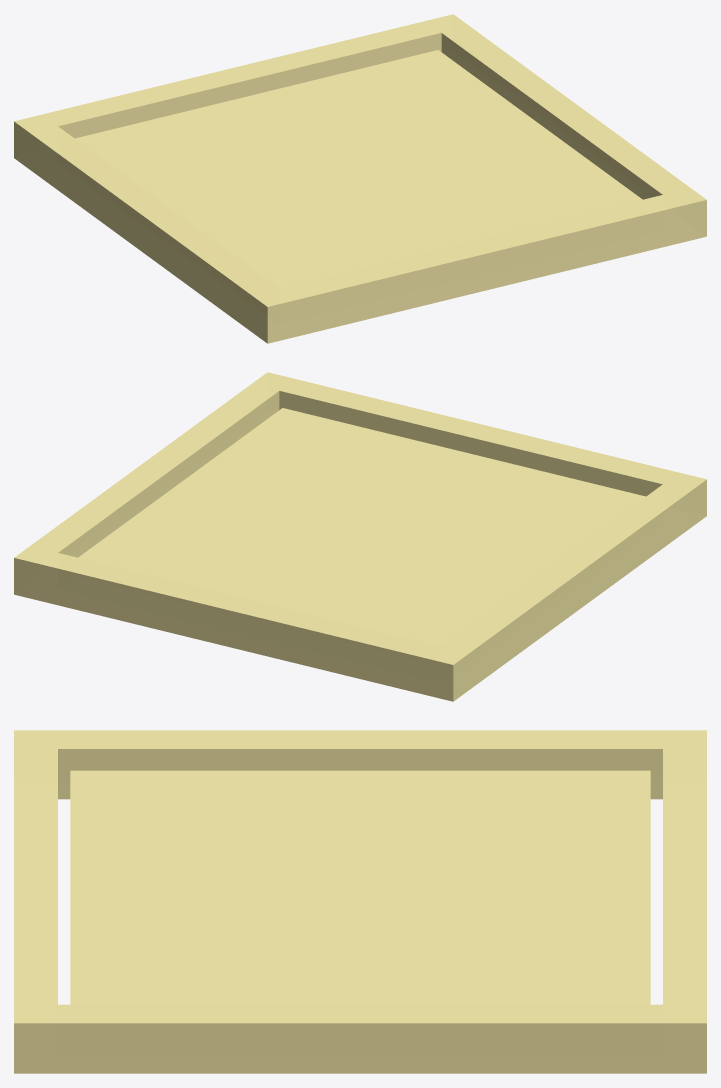
File: tile-square-yellow.glb
3 renders of one model, top to bottom at view 1: azimuth 30°, elevation 25°; view 2: azimuth 150°, elevation 25°; view 3: azimuth 270°, elevation 25°, orthographic. The views are drawn at different scales.
Parts seen in each view (by area): view 1: tile; view 2: tile; view 3: tile.
Part boxes in pixels (x1,y1,x2,y2): tile: (14,14,706,343); tile: (14,372,706,701); tile: (14,730,706,1073).
Size of the model in its own units: 1 by 0.08 by 1.
